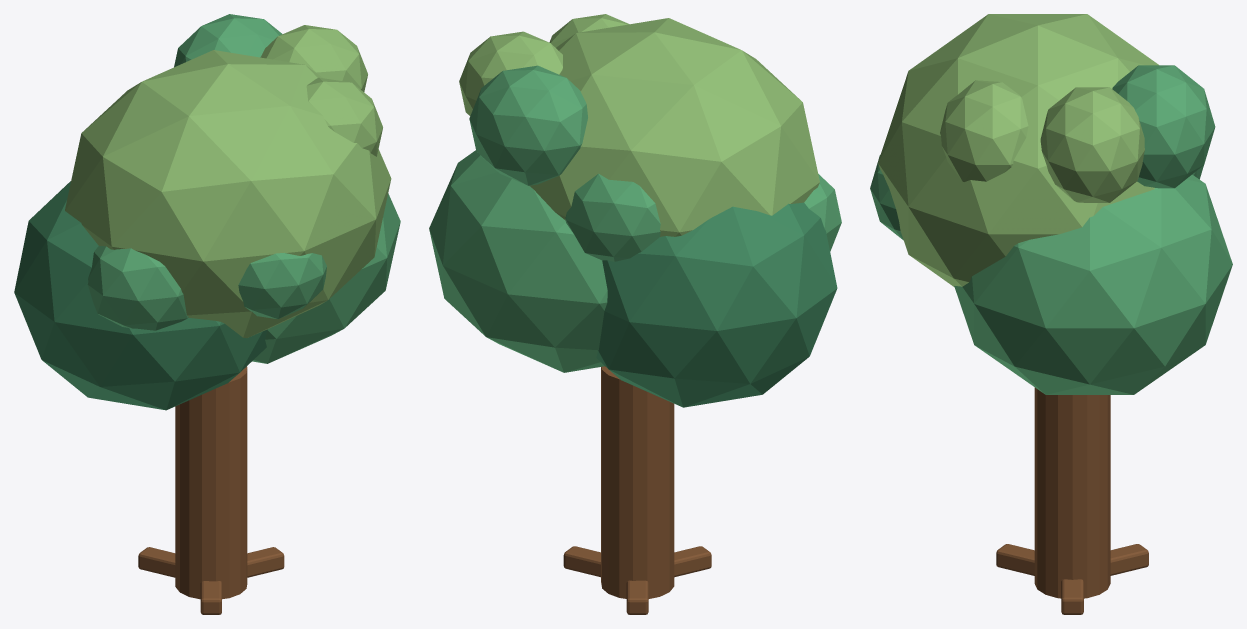
File: NAT_TREE_OAK_1x1_001.glb
3 views of the same model, side by side, from view 1: azimuth 30°, elevation 25°; view 2: azimuth 150°, elevation 25°; view 3: azimuth 270°, elevation 25° (orthographic). The views are drawn at different scales.
Parts seen in each view (by area): view 1: NAT_TREE_OAK_1x1_001_Visual; view 2: NAT_TREE_OAK_1x1_001_Visual; view 3: NAT_TREE_OAK_1x1_001_Visual.
Part boxes in pixels (<box>): NAT_TREE_OAK_1x1_001_Visual: <box>14,14,400,614</box>; NAT_TREE_OAK_1x1_001_Visual: <box>429,14,841,614</box>; NAT_TREE_OAK_1x1_001_Visual: <box>870,14,1232,614</box>.
Size of what is drawn, in the model's own units: 1.23 by 1.78 by 1.05.
